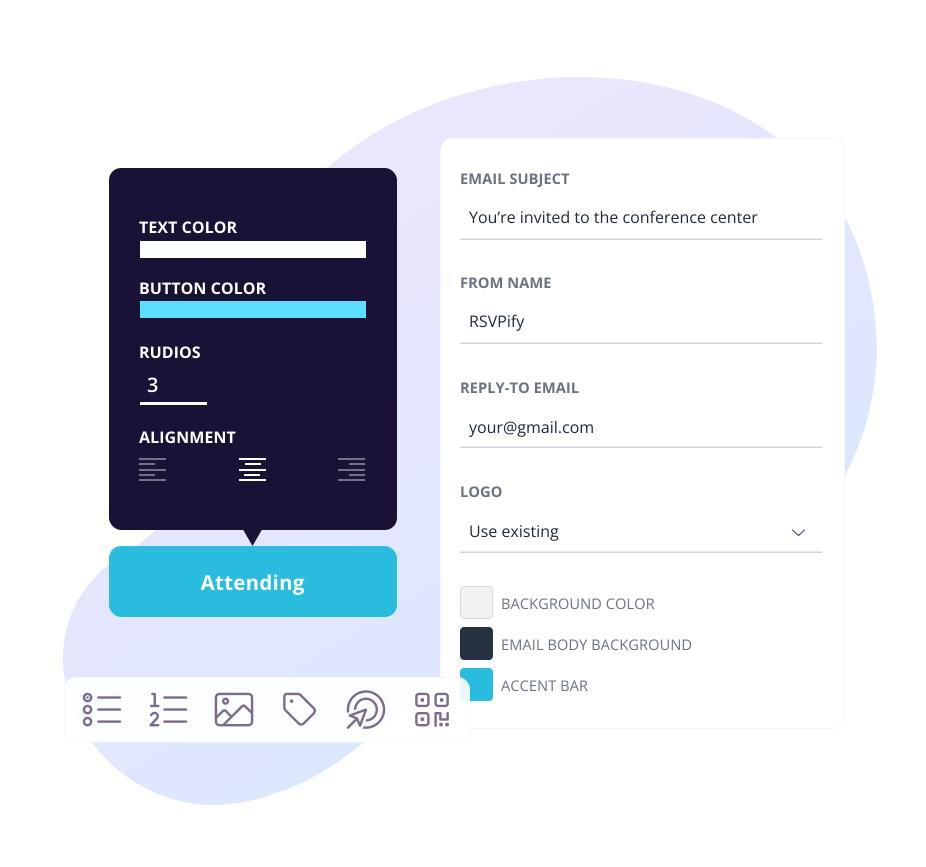button: (107, 545, 399, 619)
icon: (77, 689, 127, 731), (343, 691, 389, 731), (278, 687, 320, 730), (213, 690, 257, 730), (413, 691, 455, 731), (150, 693, 191, 731), (235, 452, 273, 490), (330, 454, 371, 488), (133, 454, 175, 487)
label: (501, 636, 696, 654), (500, 595, 654, 615), (140, 281, 267, 300), (138, 427, 234, 451), (459, 381, 583, 399), (139, 218, 240, 240), (461, 171, 572, 190), (459, 275, 555, 294), (501, 677, 592, 694), (137, 347, 206, 362), (460, 484, 509, 498)
